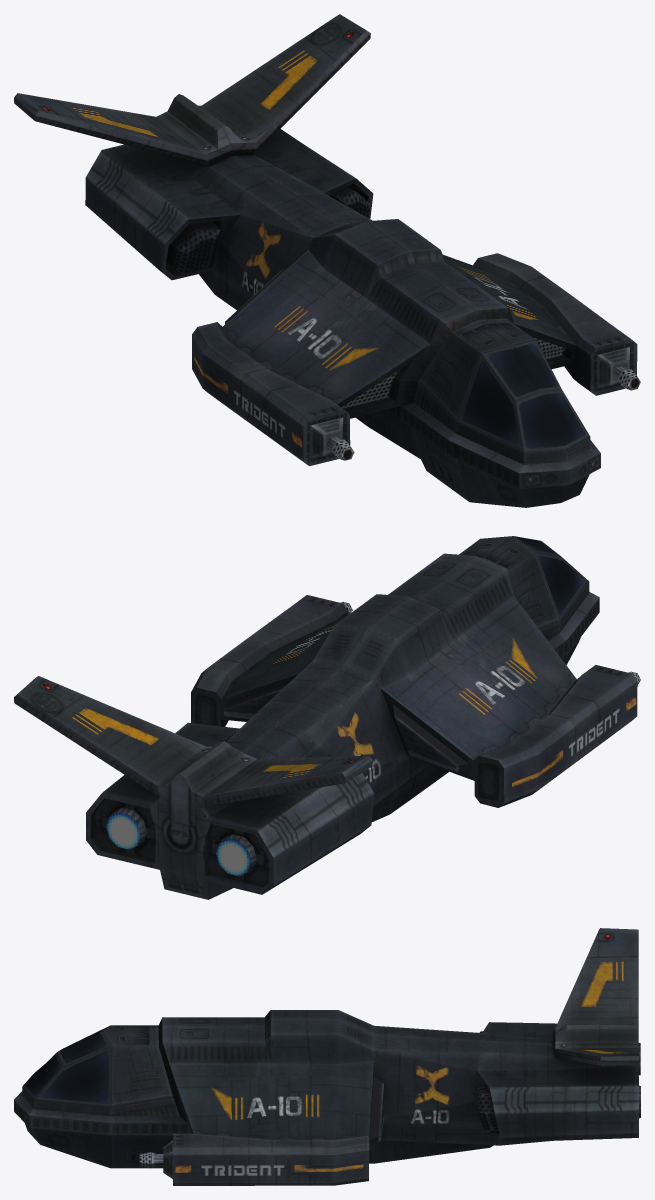
Rendered from Unknown_0.gltf.
3 views of the same model, one above another, from view 1: azimuth 30°, elevation 25°; view 2: azimuth 150°, elevation 25°; view 3: azimuth 270°, elevation 25° (orthographic). The views are drawn at different scales.
Visible parts, largest first — view 1: Trident_Space_Fighter; view 2: Trident_Space_Fighter; view 3: Trident_Space_Fighter.
Boxes of the visible parts, <box> form: Trident_Space_Fighter: <box>14,14,640,507</box>; Trident_Space_Fighter: <box>14,536,640,899</box>; Trident_Space_Fighter: <box>14,928,640,1185</box>.
Size of the model in its own units: 4.02 by 2.27 by 8.07.
1 material, 1 textured.
